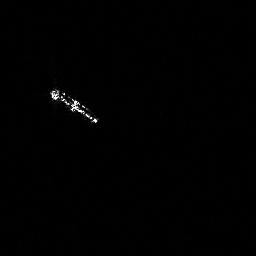ship: (47, 85, 102, 126)
